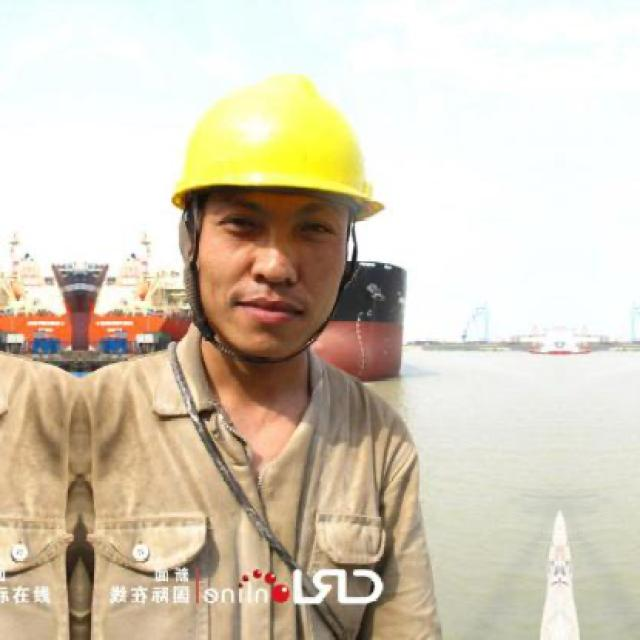con casco: (57, 75, 406, 464)
